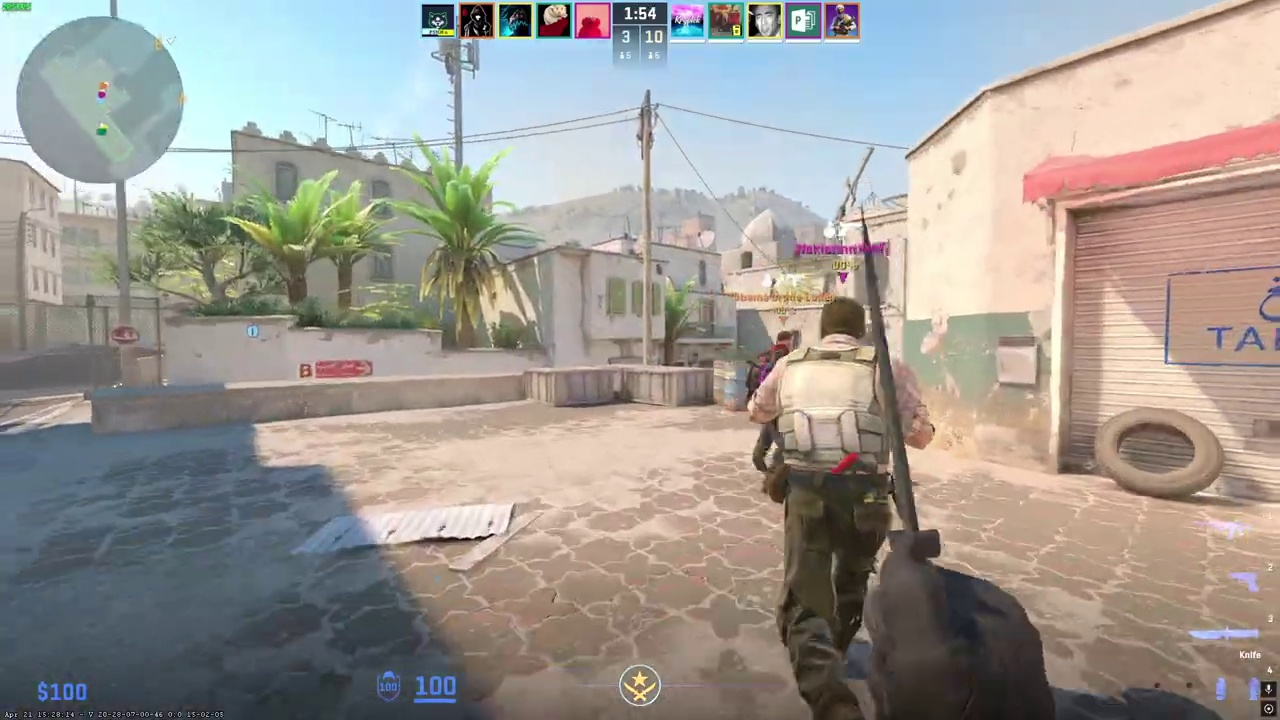Terrorist: (744, 292, 933, 720)
